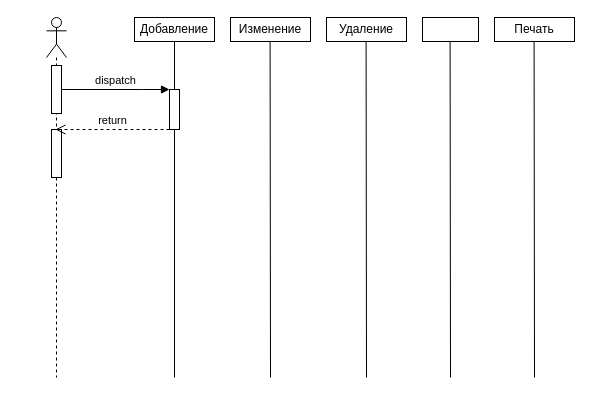
Some shapes in this 592 by 396 pixel diagram are drawn without their labels. Each missing label, with the centre of its shape:
Поиск: point (450, 29)
Пользователь: point (56, 197)
